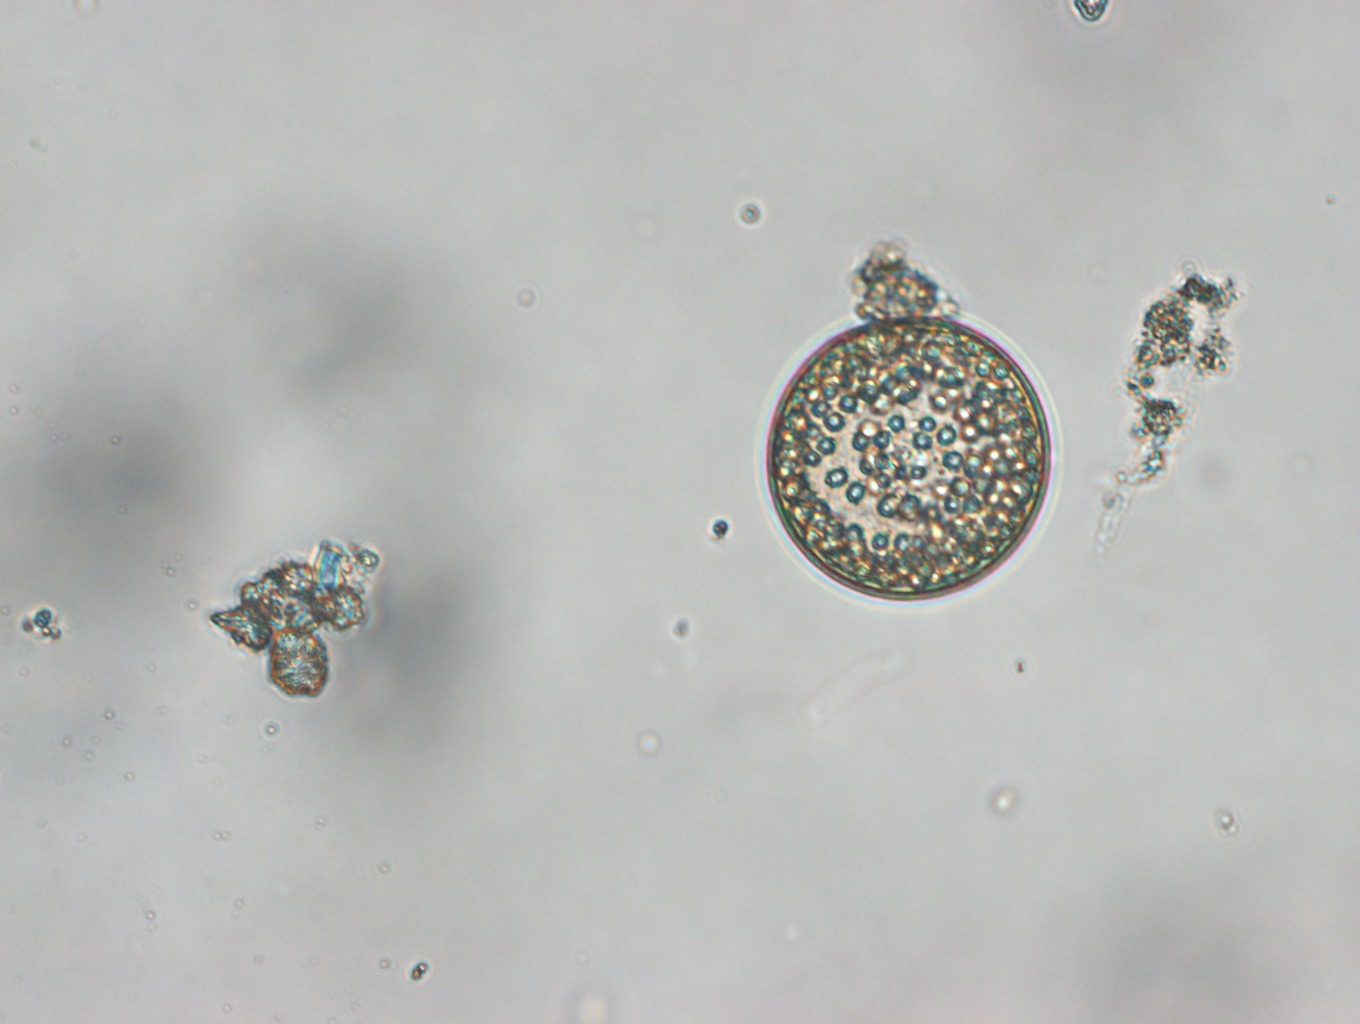coscinodiscus: (764, 310, 1053, 605)
